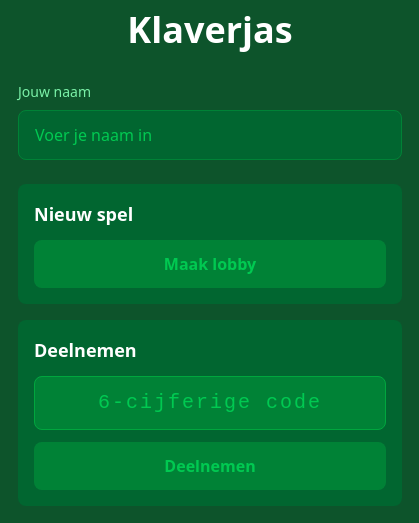
HomePage › join lobby button › should be enabled when name and valid code are entered
Type "TestPlayer" into the field labelled "Jouw naam" at (210,135), box [18,110,402,160]
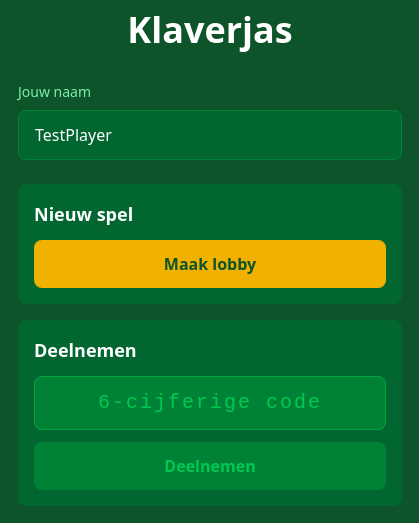
Type "123456" into the field with placeholder "6-cijferige code" at (210,403), box [34,376,386,430]
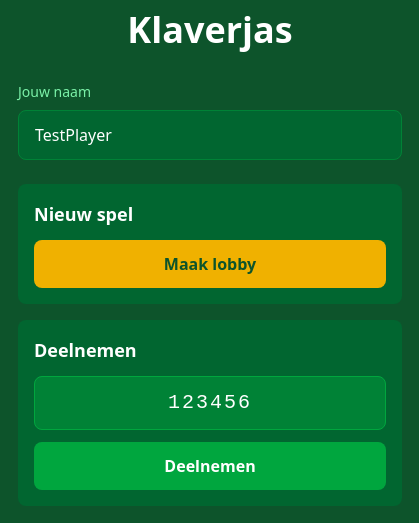
Expected: the button "Deelnemen" is enabled, [34,442,386,490]
